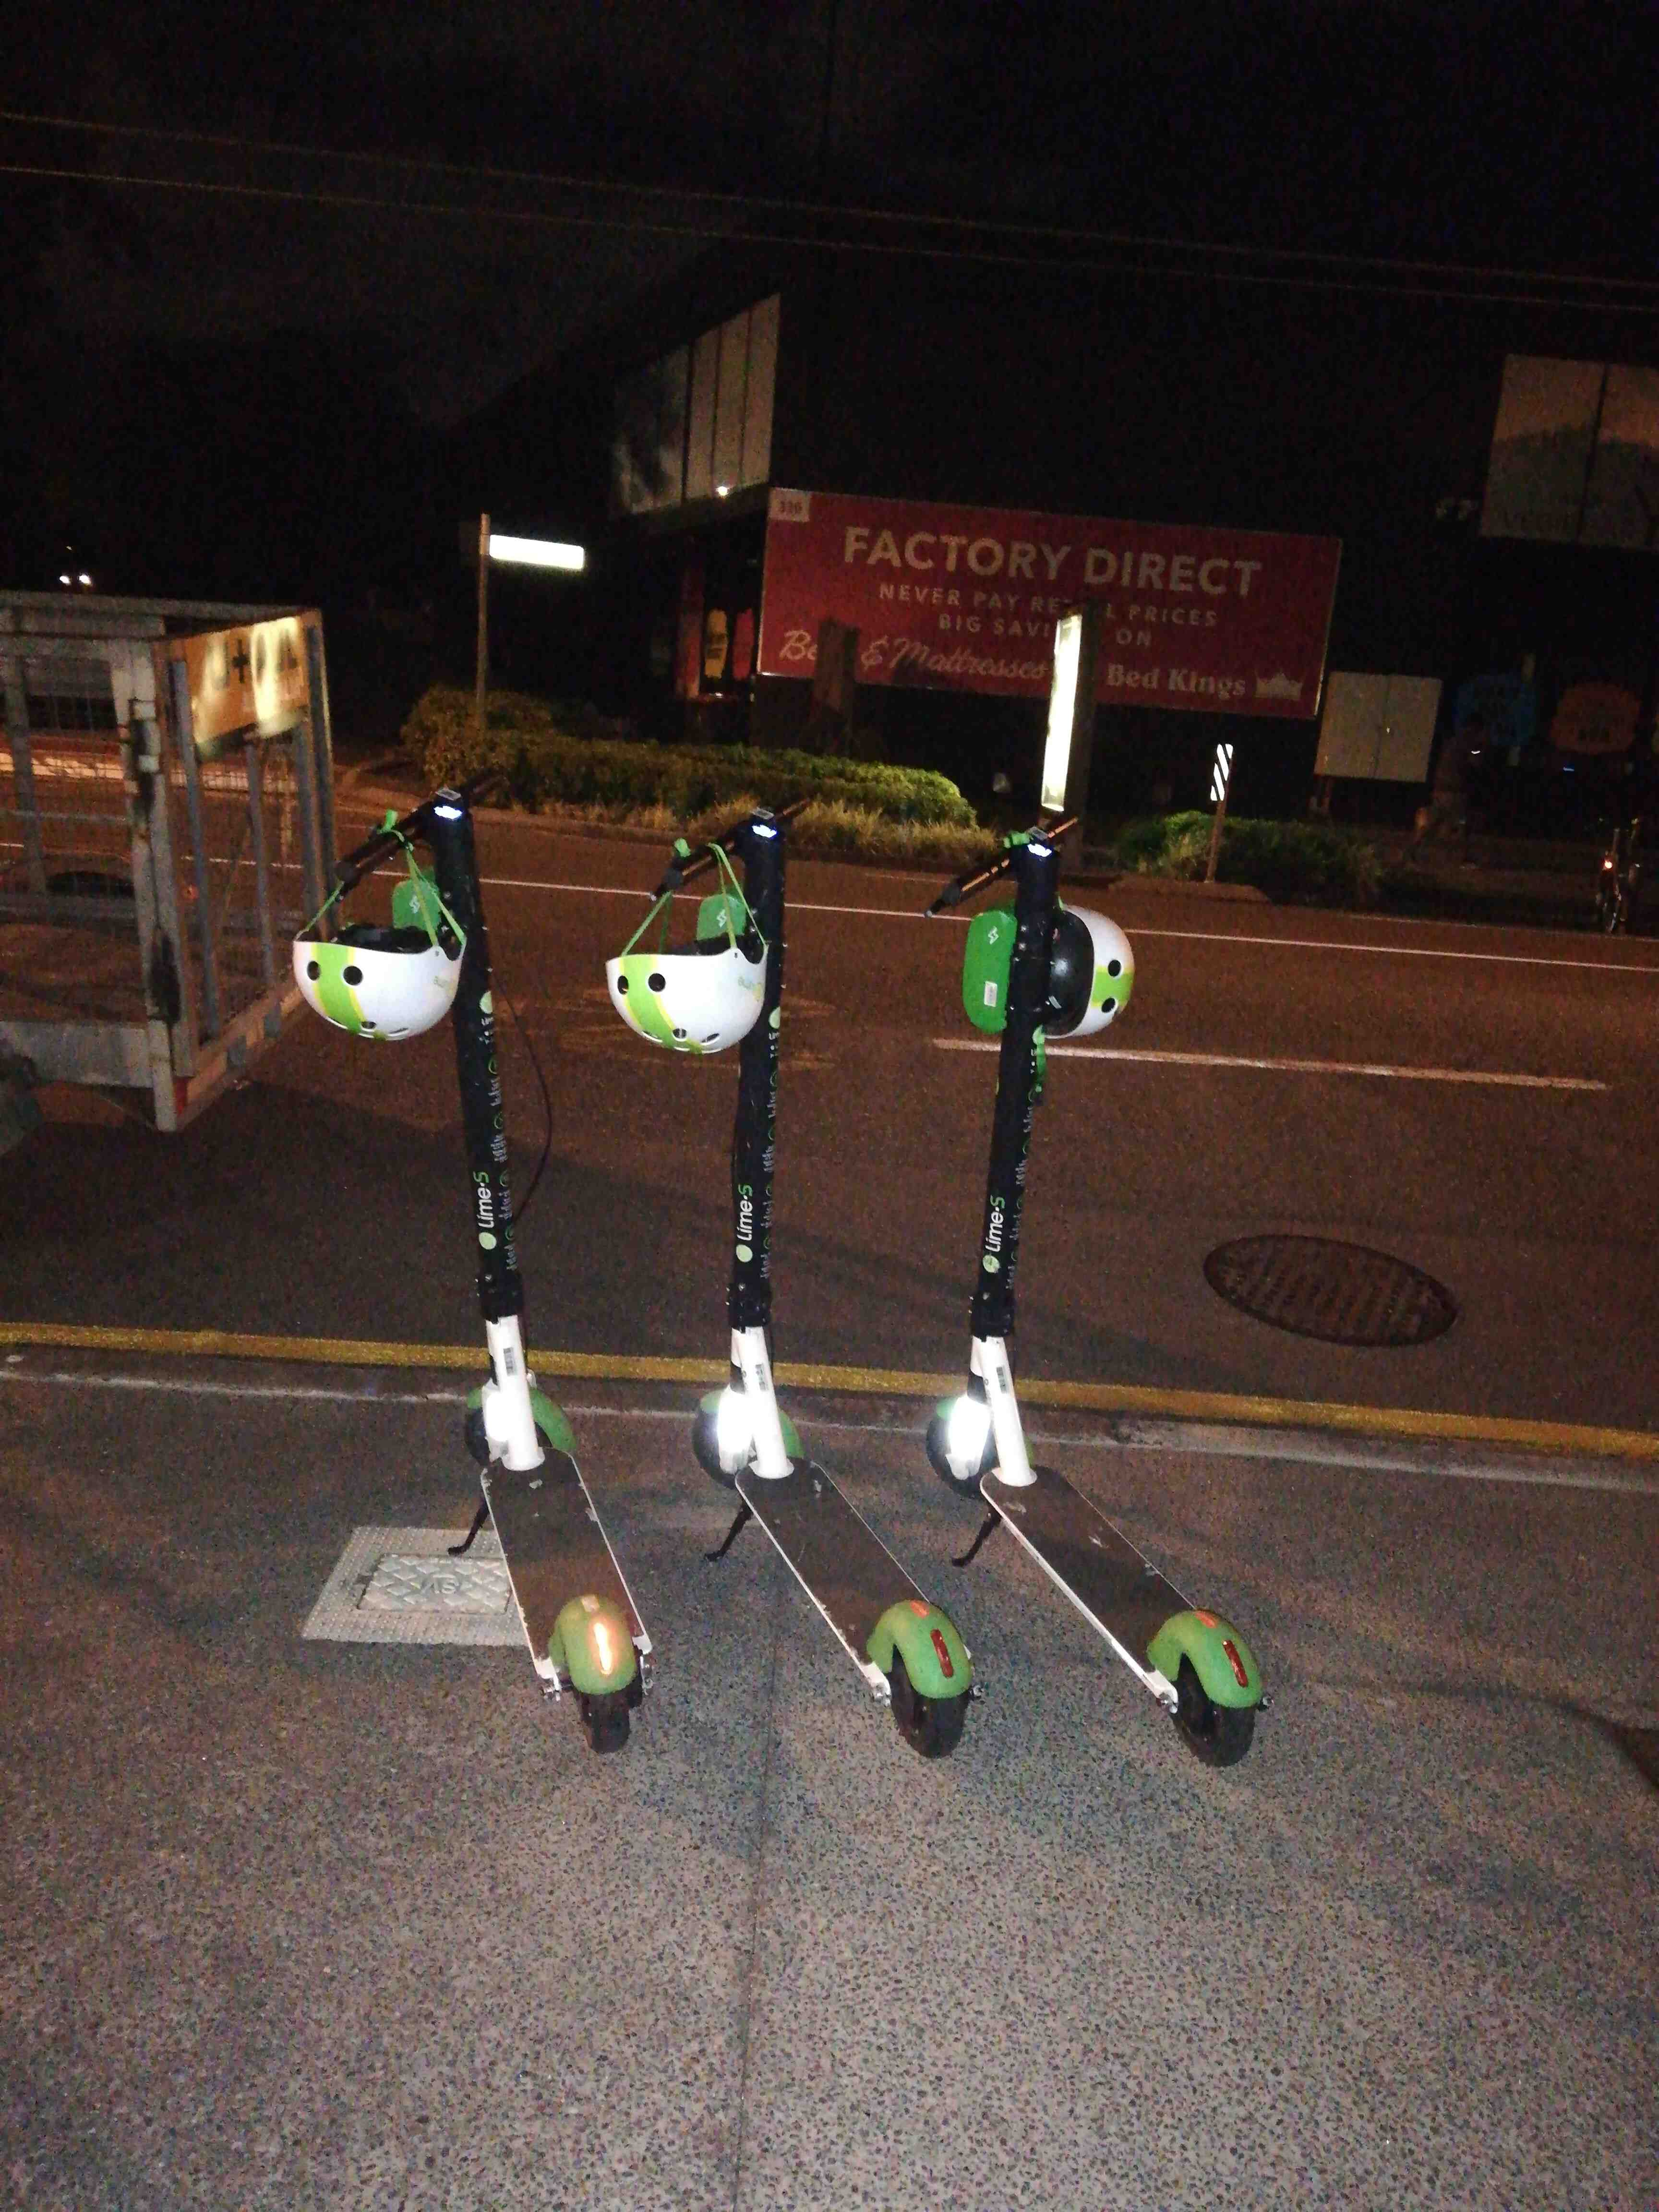too close: (626, 1331, 885, 1510), (875, 1348, 1117, 1531), (403, 1336, 645, 1510)
